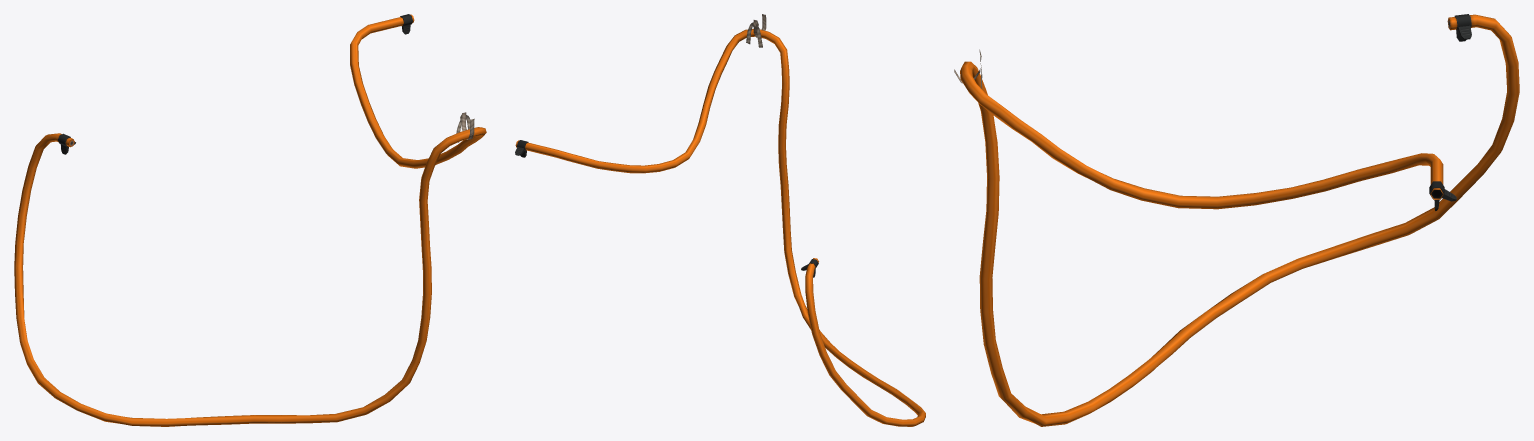
File: jsf_GasRange_05c.fbx
The picture shows the model from 3 angles, left to right: view 1: azimuth 30°, elevation 25°; view 2: azimuth 150°, elevation 25°; view 3: azimuth 270°, elevation 25°; orthographic projection. The views are drawn at different scales.
Parts seen in each view (by area): view 1: GasHose; view 2: GasHose; view 3: GasHose.
Boxes of the visible parts, left/top/right/bottom form: GasHose: left=14, top=14, right=486, bottom=426; GasHose: left=515, top=14, right=925, bottom=426; GasHose: left=954, top=14, right=1519, bottom=426.
Bounding box in the file's own units: 93.74 × 68.15 × 77.86.
